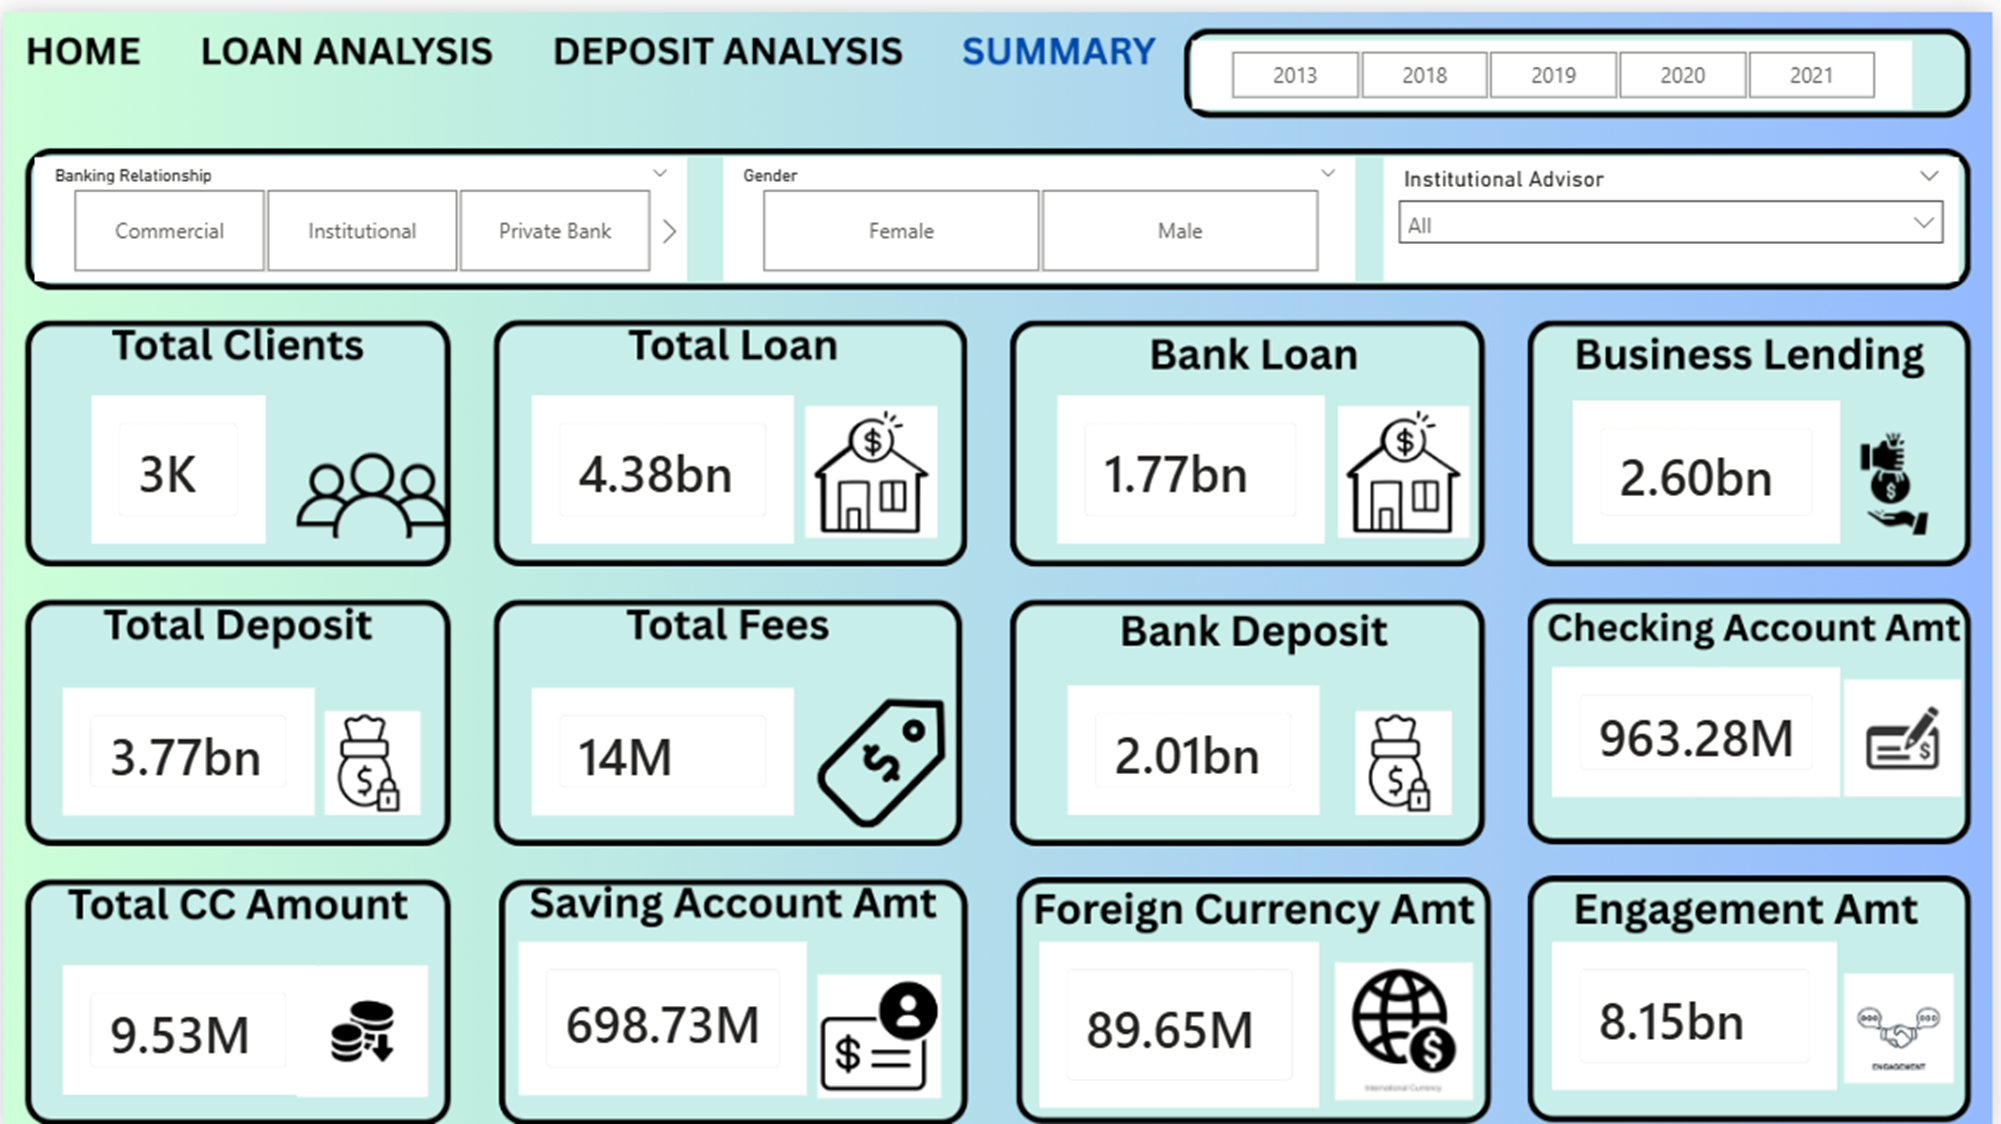

The page's visual inventory and layout, read from the dashboard file:
{"tool":"powerbi","page":{"name":"Summary","canvas":[1280,720],"ordinal":3},"visuals":[{"type":"slicer","fields":{"Values":["banking_case customers.year_of_joining2"]},"box":[764.5,17.9,463.6,43.9],"z":0},{"type":"slicer","fields":{"Values":["banking_case customers.BRId"]},"box":[20,93.3,420,80],"z":1},{"type":"slicer","fields":{"Values":["banking_case customers.GenderId"]},"box":[463.3,93.3,406.7,80],"z":2},{"type":"slicer","fields":{"Values":["banking_case customers.IAId"]},"box":[888.3,93.3,370,80],"z":3},{"type":"cardVisual","fields":{"Data":["banking_case customers.Total_clients"]},"box":[56.7,246.7,111.7,95],"z":4},{"type":"cardVisual","fields":{"Data":["banking_case customers.Total_loan"]},"box":[340,246.7,168.3,95],"z":5},{"type":"cardVisual","fields":{"Data":["Sum(banking_case customers.Bank Loans)"]},"box":[678.3,246.7,171.7,95],"z":6},{"type":"cardVisual","fields":{"Data":["Sum(banking_case customers.Business Lending)"]},"box":[1010,250,171.7,91.7],"z":7},{"type":"cardVisual","fields":{"Data":["banking_case customers.Total_deposits"]},"box":[38.3,435,161.7,81.7],"z":8},{"type":"cardVisual","fields":{"Data":["banking_case customers.totalfees"]},"box":[340,435,168.3,81.7],"z":9},{"type":"cardVisual","fields":{"Data":["Sum(banking_case customers.Bank Deposits)"]},"box":[685,433.3,161.7,83.3],"z":10},{"type":"cardVisual","fields":{"Data":["Sum(banking_case customers.Checking Accounts)"]},"box":[996.7,421.7,185,83.3],"z":11},{"type":"cardVisual","fields":{"Data":["Sum(banking_case customers.Credit Card Balance)"]},"box":[38.3,613.3,161.7,83.3],"z":12},{"type":"cardVisual","fields":{"Data":["Sum(banking_case customers.Saving Accounts)"]},"box":[331.7,598.3,185,98.3],"z":13},{"type":"cardVisual","fields":{"Data":["Sum(banking_case customers.Foreign Currency Account)"]},"box":[666.7,598.3,180,106.7],"z":14},{"type":"cardVisual","fields":{"Data":["Sum(banking_case customers.Engagement Amount)"]},"box":[996.7,598.3,183.3,95],"z":15},{"type":"actionButton","box":[0,0,100,40],"z":16},{"type":"actionButton","box":[113.3,0,218.3,40],"z":17},{"type":"actionButton","box":[351.7,0,236.7,40],"z":18}]}

Visuals, with their boxes in screenshot pixels (x1, y1, x2, y2), scaled from the page's 1280x720 canvas onto the 2001x1124 screenshot:
slicer - banking_case customers.year_of_joining2: bbox=[1195, 28, 1920, 96]
slicer - banking_case customers.BRId: bbox=[31, 146, 688, 271]
slicer - banking_case customers.GenderId: bbox=[724, 146, 1360, 271]
slicer - banking_case customers.IAId: bbox=[1389, 146, 1967, 271]
cardVisual - banking_case customers.Total_clients: bbox=[89, 385, 263, 533]
cardVisual - banking_case customers.Total_loan: bbox=[532, 385, 795, 533]
cardVisual - Sum(banking_case customers.Bank Loans): bbox=[1060, 385, 1329, 533]
cardVisual - Sum(banking_case customers.Business Lending): bbox=[1579, 390, 1847, 533]
cardVisual - banking_case customers.Total_deposits: bbox=[60, 679, 313, 807]
cardVisual - banking_case customers.totalfees: bbox=[532, 679, 795, 807]
cardVisual - Sum(banking_case customers.Bank Deposits): bbox=[1071, 676, 1324, 806]
cardVisual - Sum(banking_case customers.Checking Accounts): bbox=[1558, 658, 1847, 788]
cardVisual - Sum(banking_case customers.Credit Card Balance): bbox=[60, 957, 313, 1087]
cardVisual - Sum(banking_case customers.Saving Accounts): bbox=[519, 934, 808, 1087]
cardVisual - Sum(banking_case customers.Foreign Currency Account): bbox=[1042, 934, 1324, 1101]
cardVisual - Sum(banking_case customers.Engagement Amount): bbox=[1558, 934, 1845, 1082]
actionButton: bbox=[0, 0, 156, 62]
actionButton: bbox=[177, 0, 518, 62]
actionButton: bbox=[550, 0, 920, 62]
